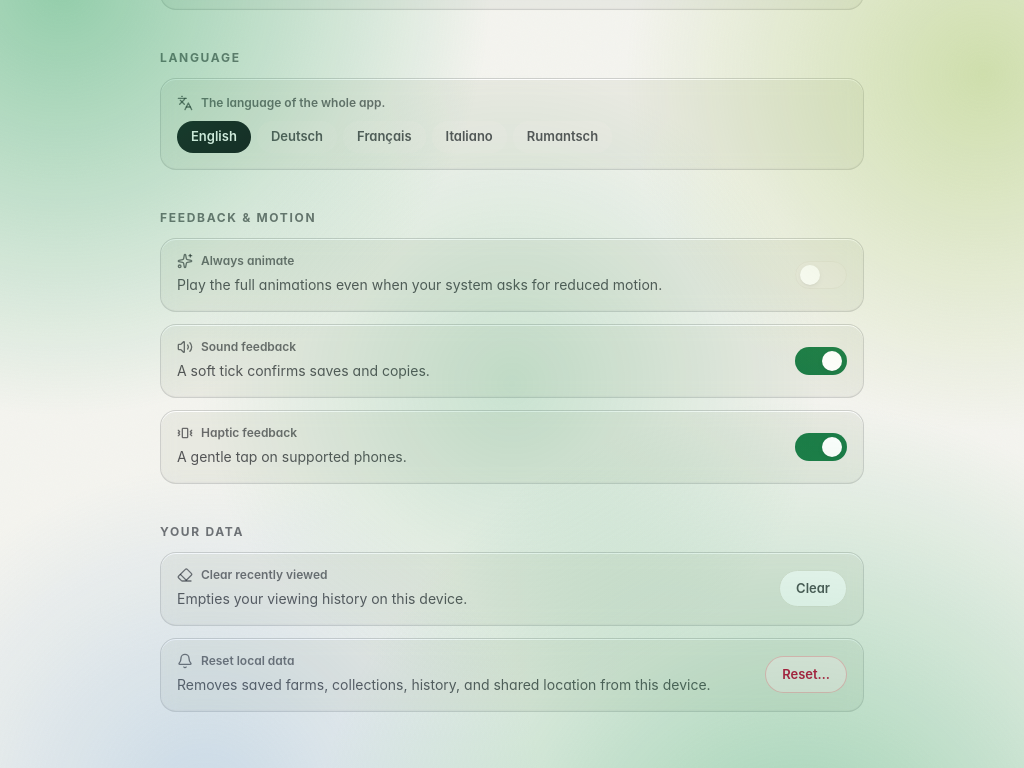
Test: SettingsView › clears recently-viewed and confirms with a transient label
The width and height of the screenshot is (1024, 768).
(page scrolled)
Click the button "Clear". click: [813, 589]
box: [779,570,847,607]
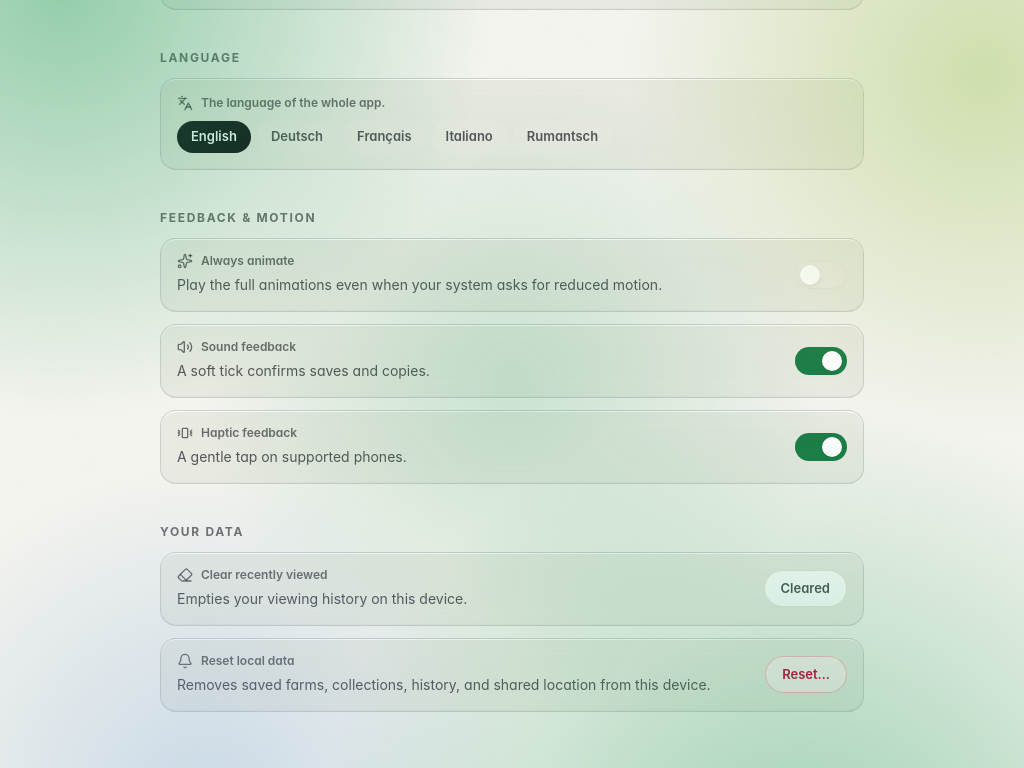
Expected: the button "Cleared" is shown, [764,570,847,607]
